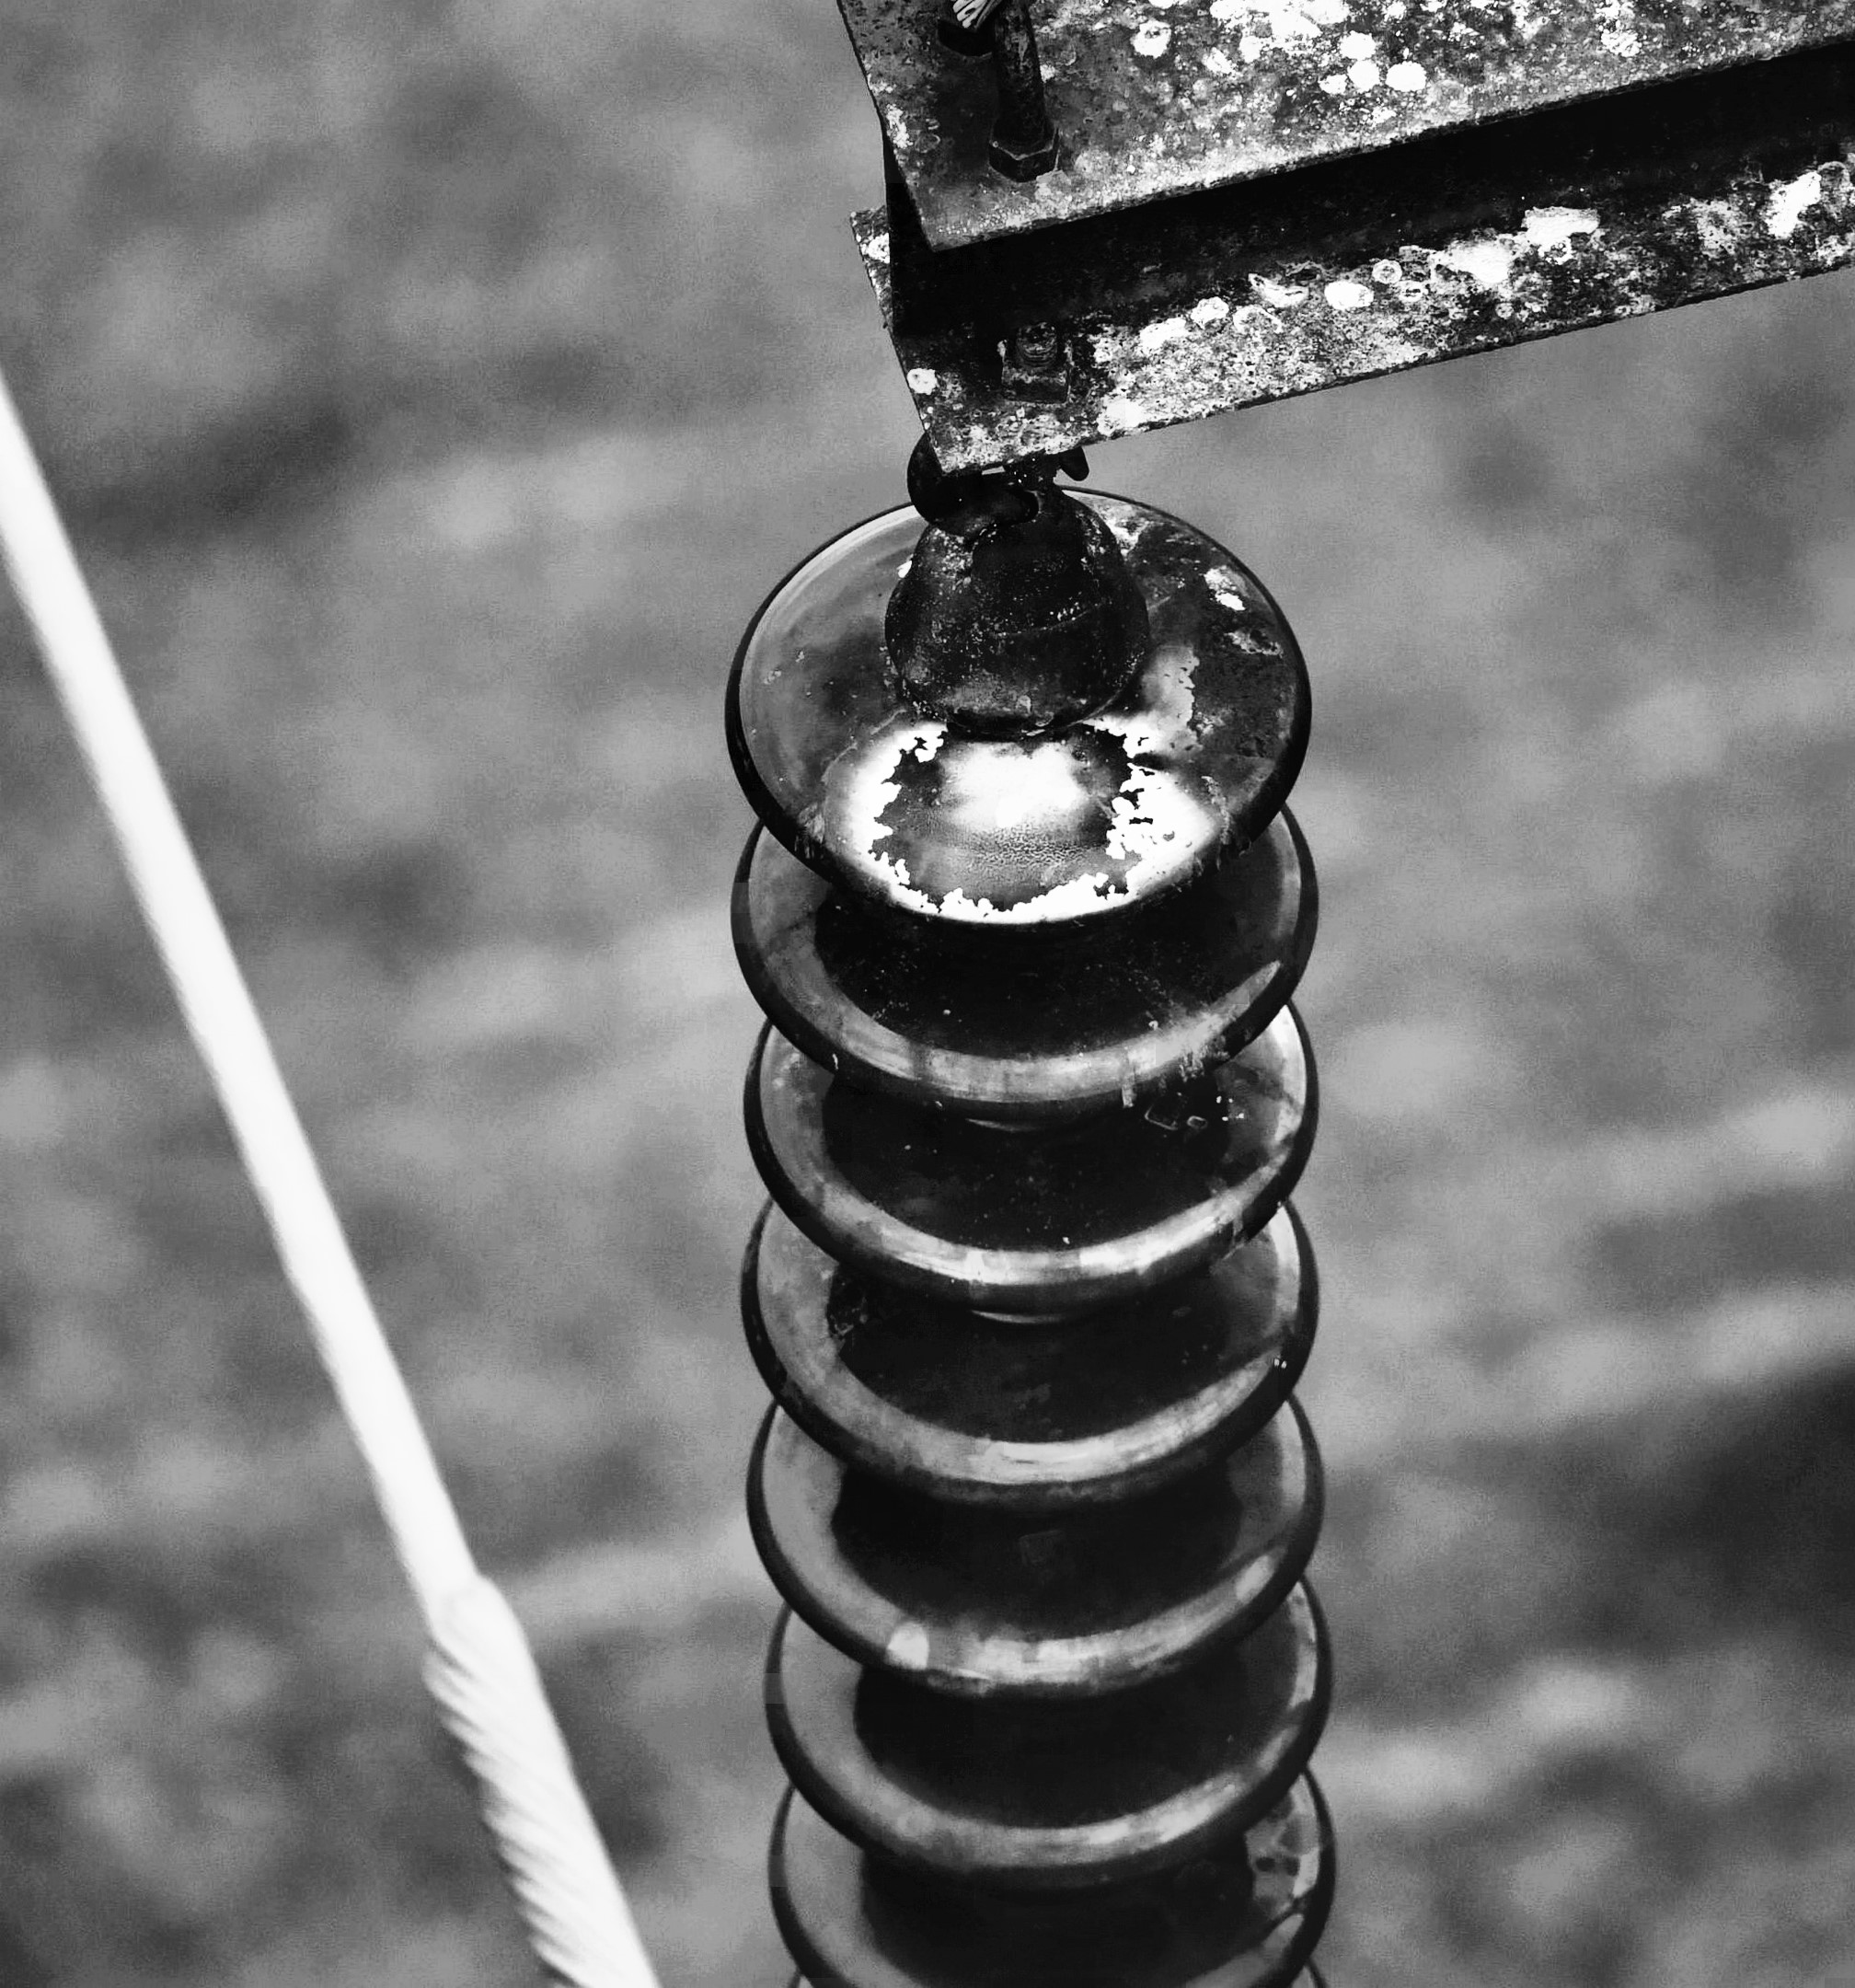Insulator flashover: (715, 483, 1322, 931)
